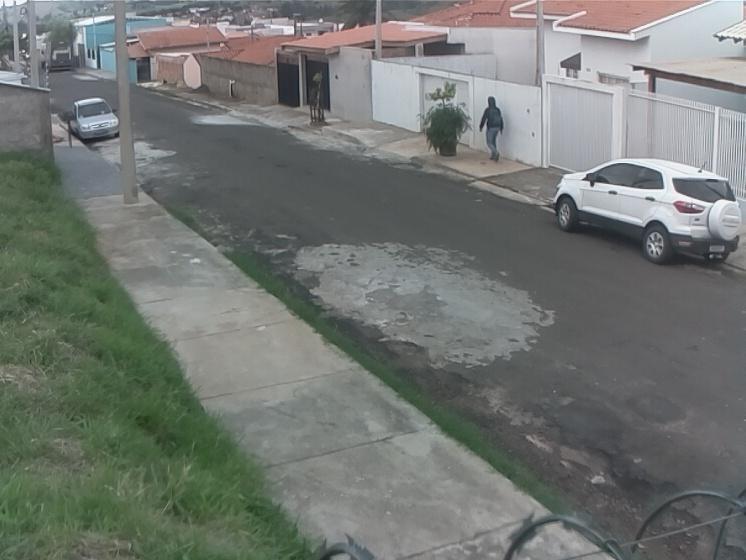person: (477, 95, 507, 165)
